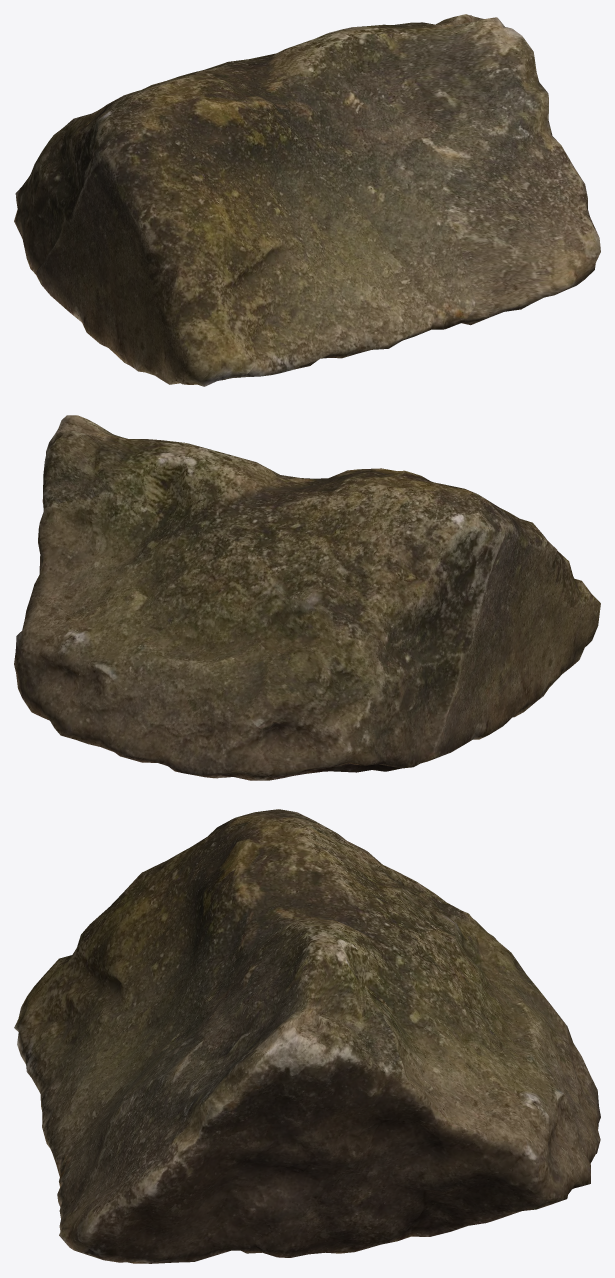
The model's file is boulder.glb.
3 views of the same model, one above another, from view 1: azimuth 30°, elevation 25°; view 2: azimuth 150°, elevation 25°; view 3: azimuth 270°, elevation 25° (orthographic). The views are drawn at different scales.
Bounding box in the file's own units: 2.11 × 1.1 × 2.08.
Materials: 1 (1 with a texture image).
